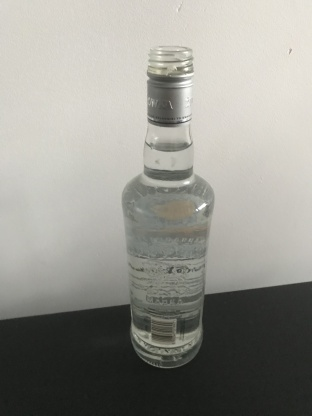nakretka: (145, 41, 195, 128)
